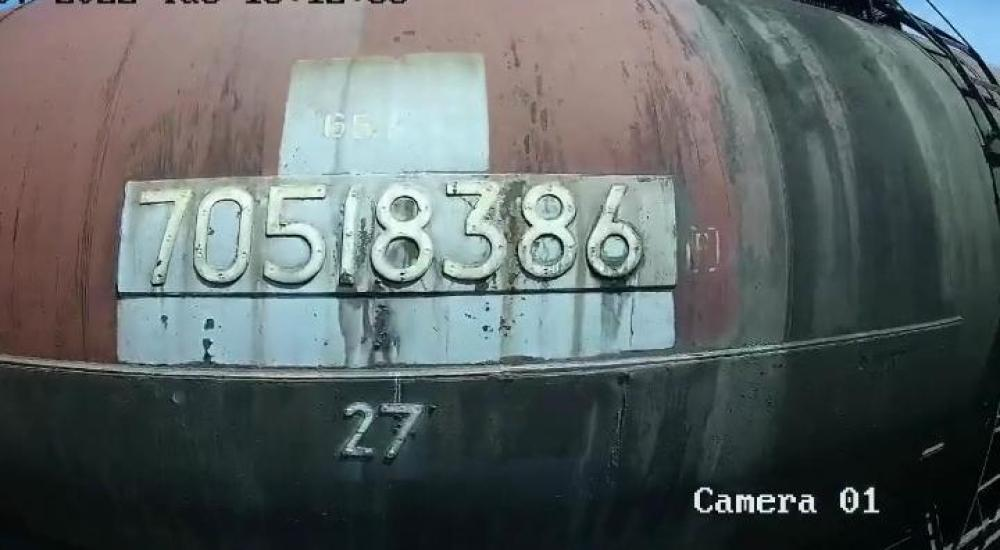Wagon-number: (132, 179, 649, 289)
